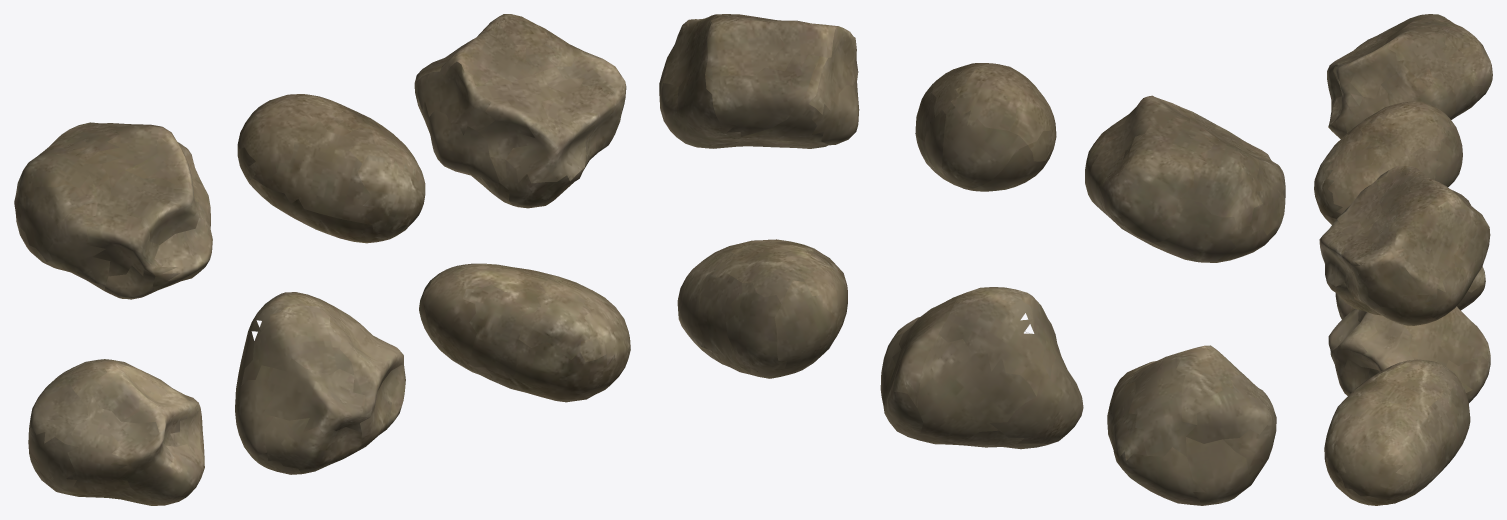
File: rock-kit.glb
3 views of the same model, side by side, from view 1: azimuth 30°, elevation 25°; view 2: azimuth 150°, elevation 25°; view 3: azimuth 270°, elevation 25° (orthographic). The views are drawn at different scales.
Size of the model in its own units: 1 by 0.6132 by 0.3213.
Materials: 1 (1 with a texture image).
